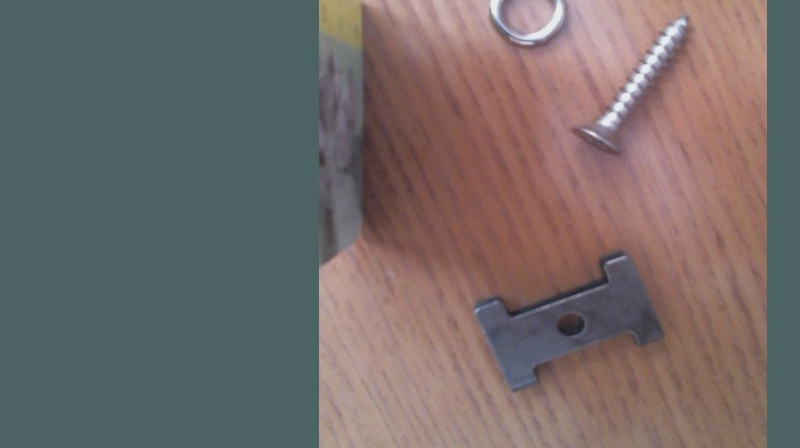O001: (482, 0, 568, 49)
O002: (464, 249, 667, 397)
S001: (566, 6, 695, 161)
